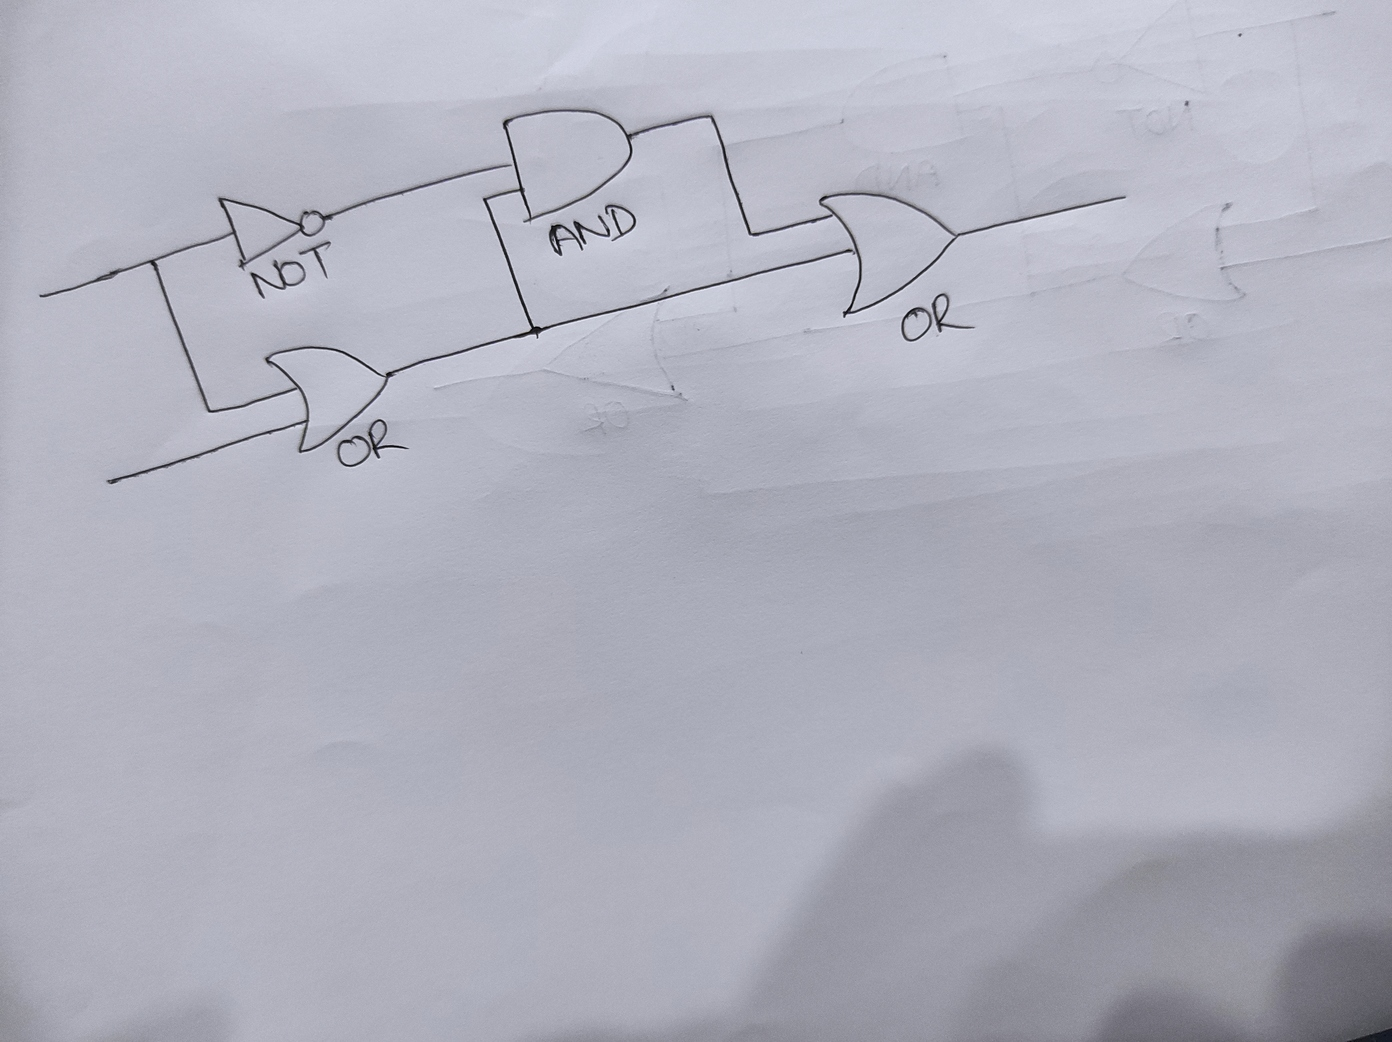and: (501, 103, 634, 225)
junction: (697, 103, 724, 130), (140, 248, 165, 274), (520, 319, 546, 340), (195, 402, 220, 422), (739, 227, 761, 245), (477, 189, 494, 207)
not: (214, 194, 330, 273)
or: (817, 189, 960, 320), (262, 341, 393, 455)
terminal: (1105, 185, 1135, 209), (28, 283, 57, 306), (98, 472, 121, 490)
text: (246, 240, 335, 302), (545, 202, 637, 260), (897, 291, 977, 343), (334, 417, 410, 468)
